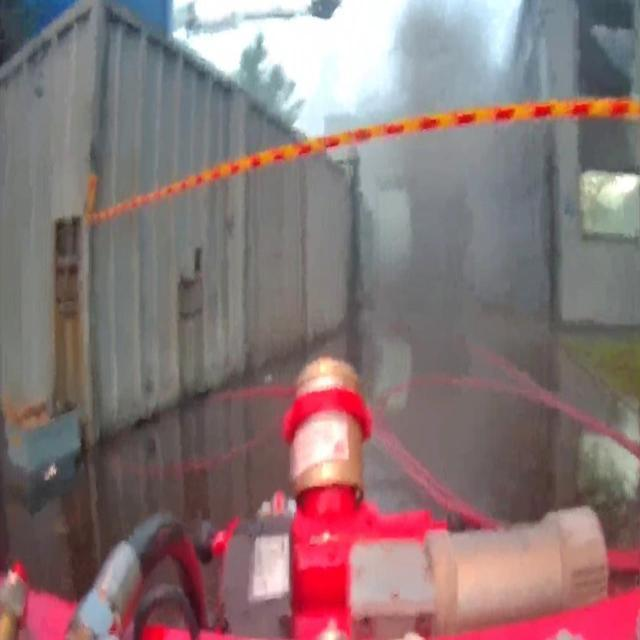Fire: (578, 169, 640, 209)
Smoke: (354, 0, 514, 317)
